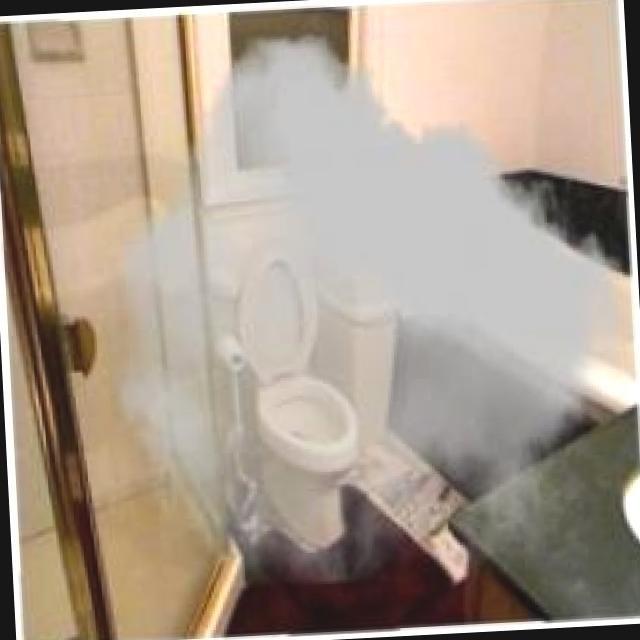smoke: (146, 121, 504, 382)
